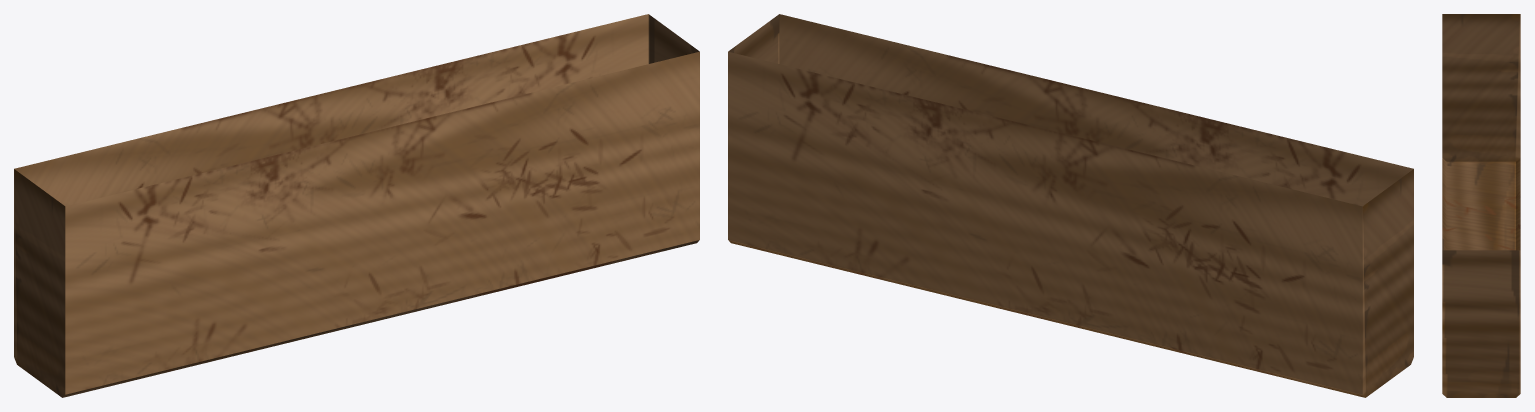
Rendered from SM_Planche.fbx.
3 renders of one model, left to right at view 1: azimuth 30°, elevation 25°; view 2: azimuth 150°, elevation 25°; view 3: azimuth 270°, elevation 25°, orthographic. The views are drawn at different scales.
Parts seen in each view (by area): view 1: Box072; view 2: Box072; view 3: Box072.
Boxes of the visible parts, bbox=[...] form: Box072: bbox=[14, 14, 699, 397]; Box072: bbox=[728, 14, 1413, 397]; Box072: bbox=[1442, 14, 1520, 397].
Size of the model in its own units: 100 by 29.18 by 14.03.
